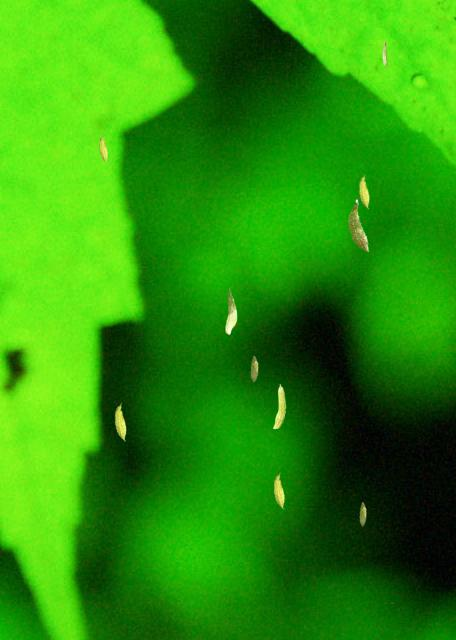ampalaya: (347, 199, 369, 252), (272, 383, 286, 429), (225, 287, 237, 335), (114, 402, 126, 441), (273, 472, 284, 509), (358, 174, 369, 209), (99, 134, 108, 163), (250, 355, 258, 382), (359, 502, 367, 526), (382, 41, 387, 66)
